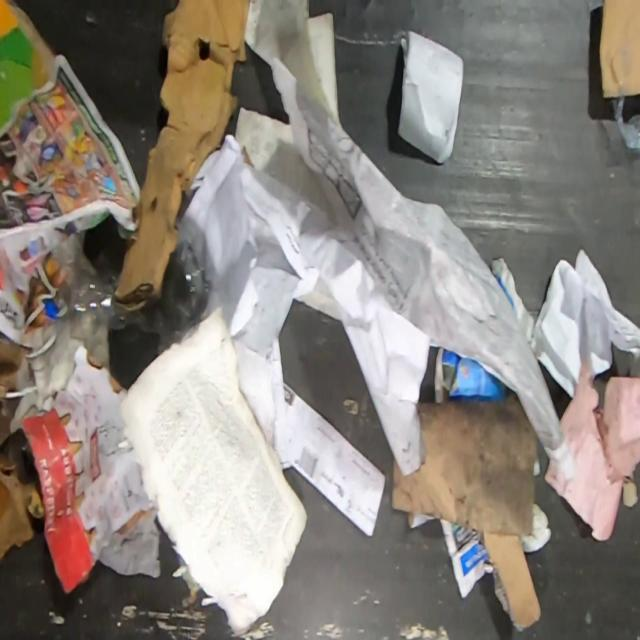cardboard: (112, 0, 250, 313), (388, 398, 541, 635), (19, 342, 158, 595), (0, 0, 57, 137), (0, 455, 43, 560), (0, 328, 35, 447), (599, 0, 640, 97)
rigid_plastic: (44, 236, 212, 343), (610, 96, 640, 149)
